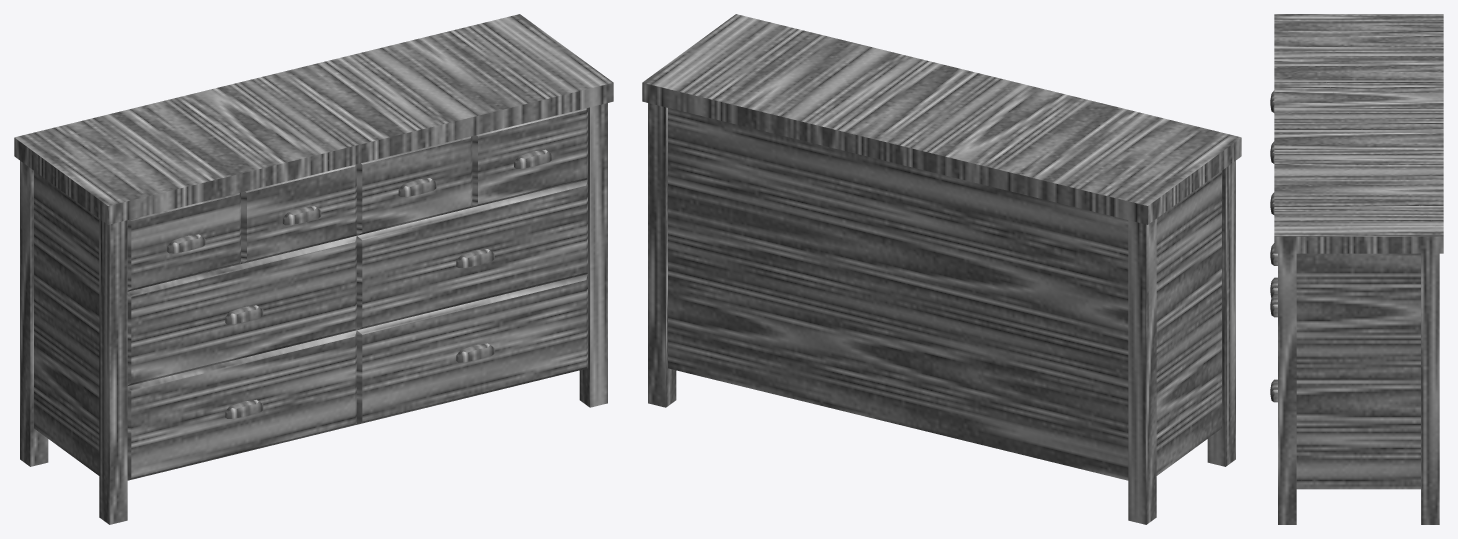
Rendered from Cabinet.FBX.
The picture shows the model from 3 angles, left to right: view 1: azimuth 30°, elevation 25°; view 2: azimuth 150°, elevation 25°; view 3: azimuth 270°, elevation 25°; orthographic projection. The views are drawn at different scales.
Parts seen in each view (by area): view 1: Dresser; view 2: Dresser; view 3: Dresser.
Boxes of the visible parts, <box> form: Dresser: <box>14,14,613,524</box>; Dresser: <box>642,14,1241,524</box>; Dresser: <box>1270,14,1443,524</box>.
Bounding box in the file's own units: 140 × 85 × 46.
